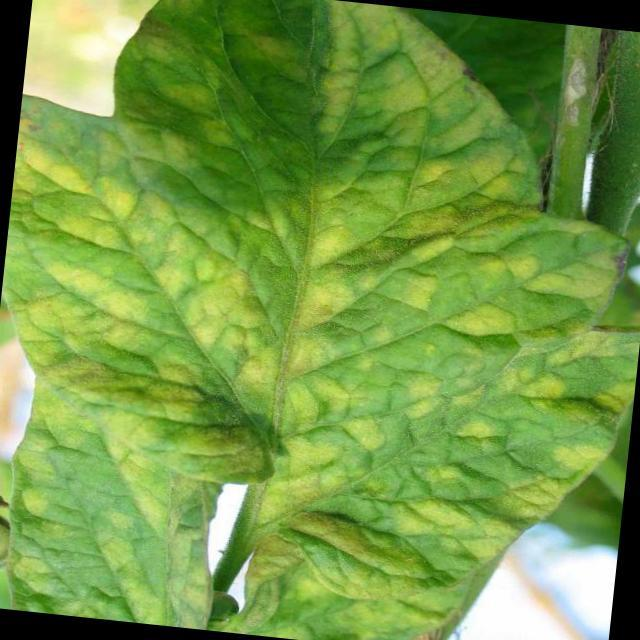Leaf Mold: (1, 1, 640, 483), (1, 431, 233, 631)
